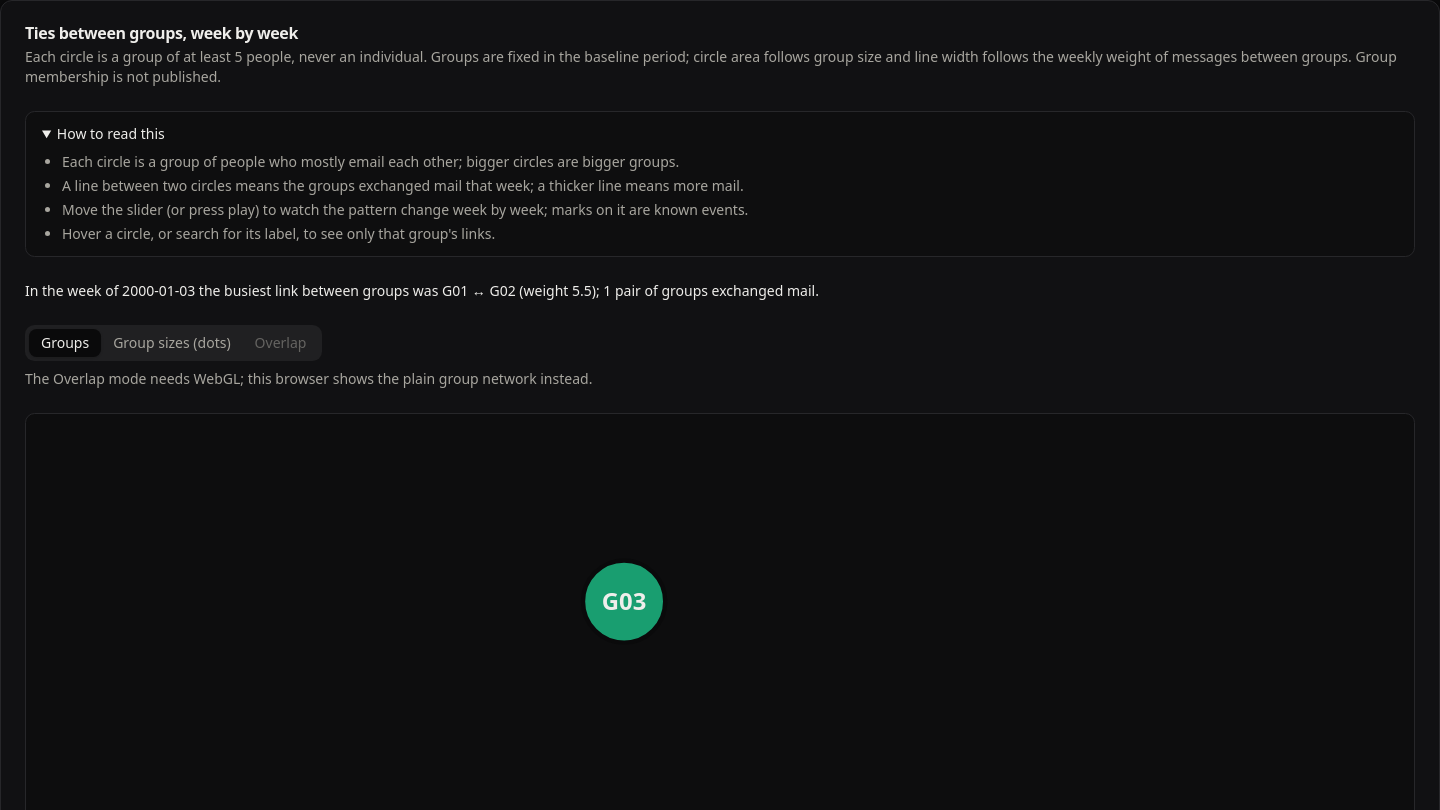
Test: CommunityGraph without WebGL (2D fallback) › in the group-size dots mode draws one bare point per person inside each group's circle
Click the tab "Group sizes (dots)".
click(172, 343)  # box [101,329,243,357]
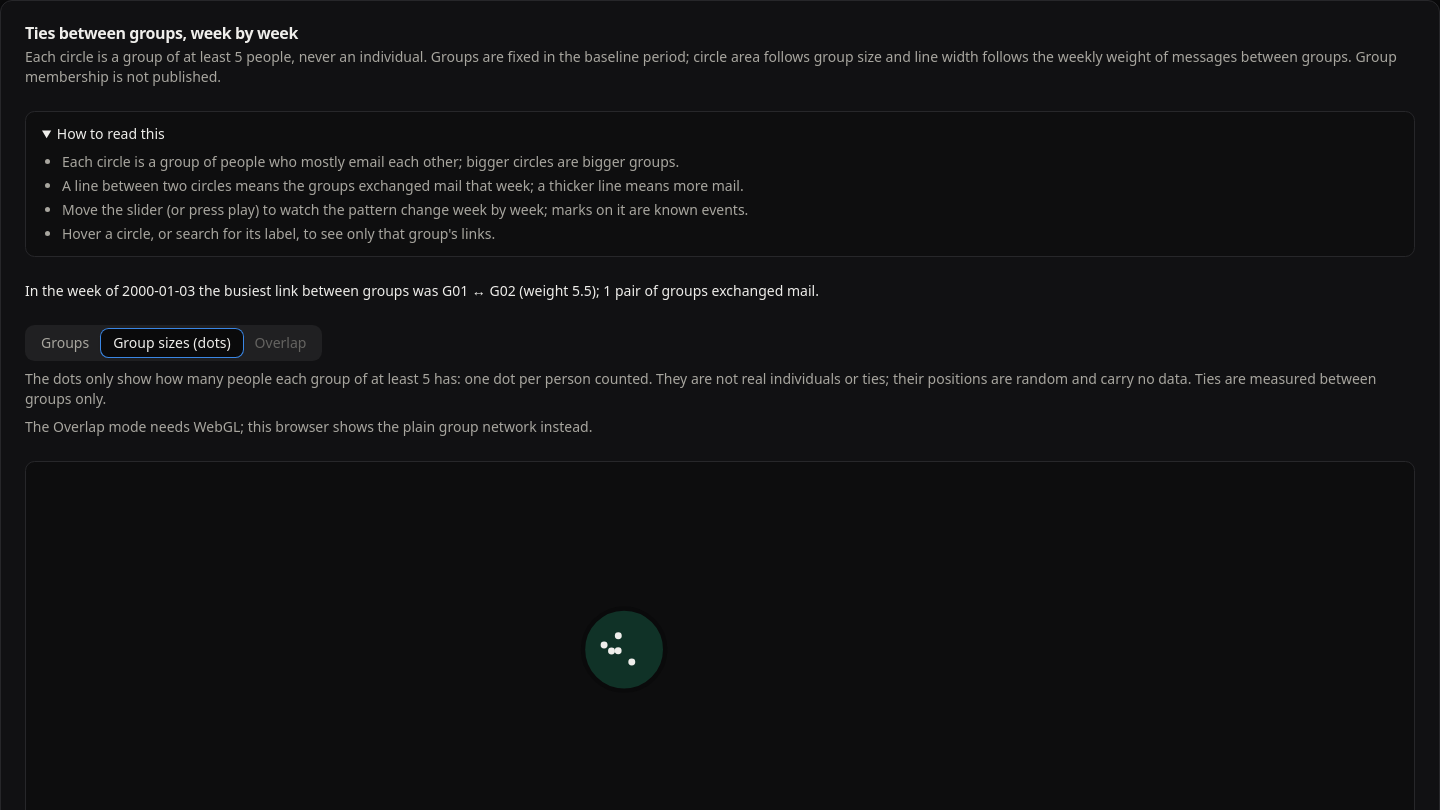
Result: the text "The dots only show how many people each group of at least 5 has: one dot per person counted." is shown at [25,369,1415,409]
